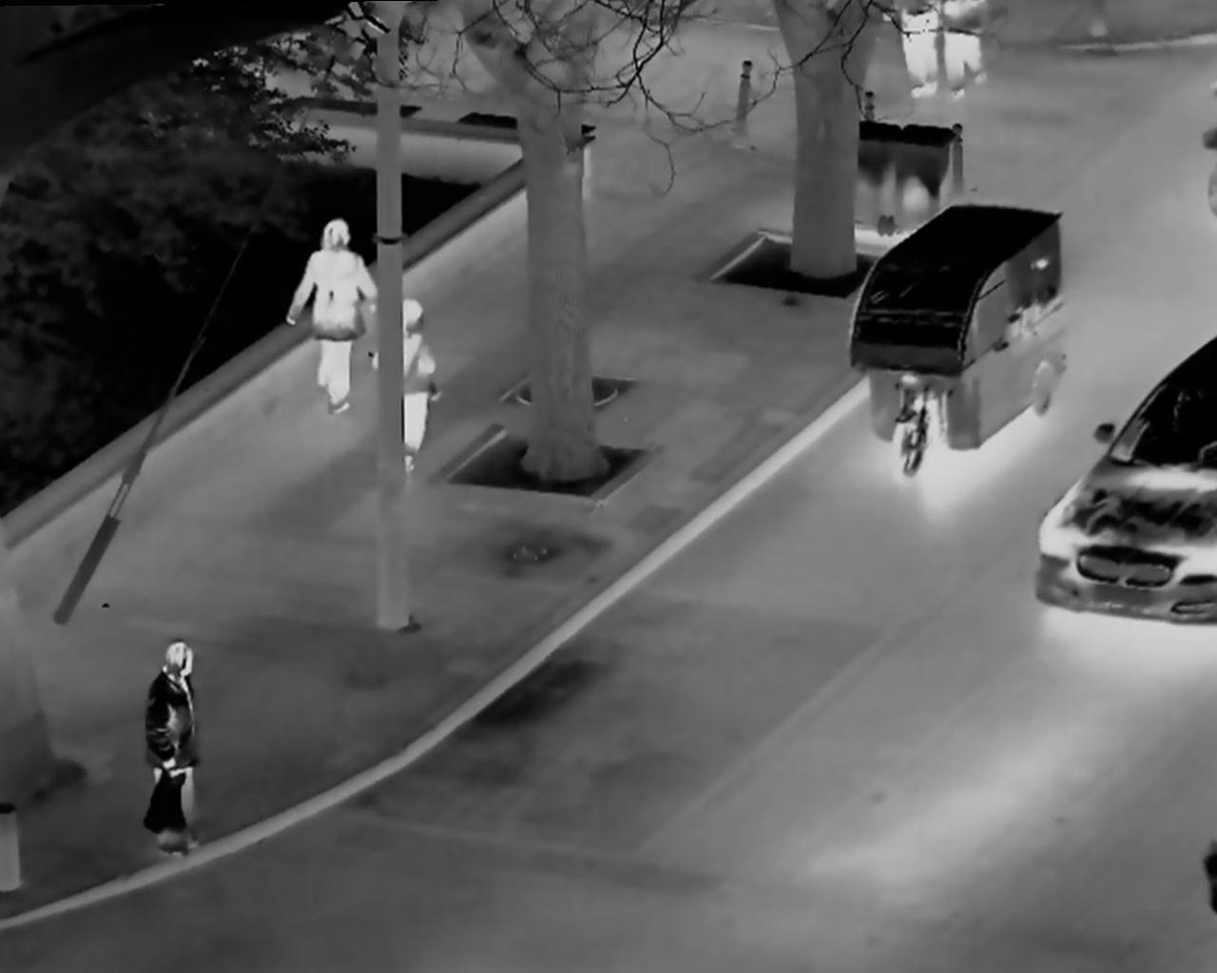person: (129, 622, 230, 878), (285, 202, 370, 417), (375, 296, 457, 501)
